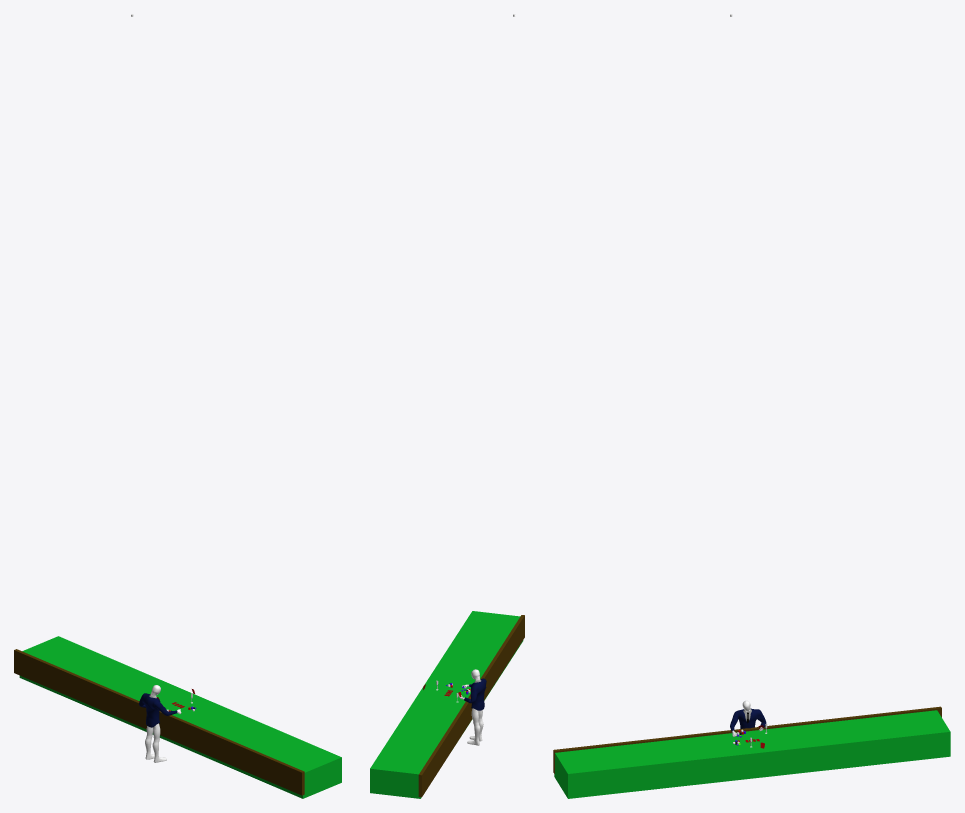
Rendered from gambler.dae.
The picture shows the model from 3 angles, left to right: view 1: azimuth 30°, elevation 25°; view 2: azimuth 150°, elevation 25°; view 3: azimuth 270°, elevation 25°; orthographic projection. The views are drawn at different scales.
Visible parts, largest first — view 1: Cube-S3D-19-FLIPPED, Cube-S3D-20-FLIPPED, Cube.005-S3D-15; view 2: Cube-S3D-19-FLIPPED, Cube-S3D-20-FLIPPED, Cube.005-S3D-15, Cube.002-S3D-18-SMOOTHED; view 3: Cube-S3D-19-FLIPPED, Cube-S3D-20-FLIPPED.
Boxes of the visible parts, x1,y1,x2,y2 form: Cube-S3D-19-FLIPPED: [19, 636, 341, 798]; Cube-S3D-20-FLIPPED: [14, 649, 304, 795]; Cube.005-S3D-15: [139, 693, 177, 727]; Cube-S3D-19-FLIPPED: [370, 611, 523, 798]; Cube-S3D-20-FLIPPED: [418, 615, 524, 797]; Cube.005-S3D-15: [464, 678, 486, 710]; Cube.002-S3D-18-SMOOTHED: [458, 669, 483, 736]; Cube-S3D-19-FLIPPED: [554, 710, 950, 798]; Cube-S3D-20-FLIPPED: [553, 706, 941, 773].
Bounding box in the file's own units: 28.53 × 150 × 72.68.
